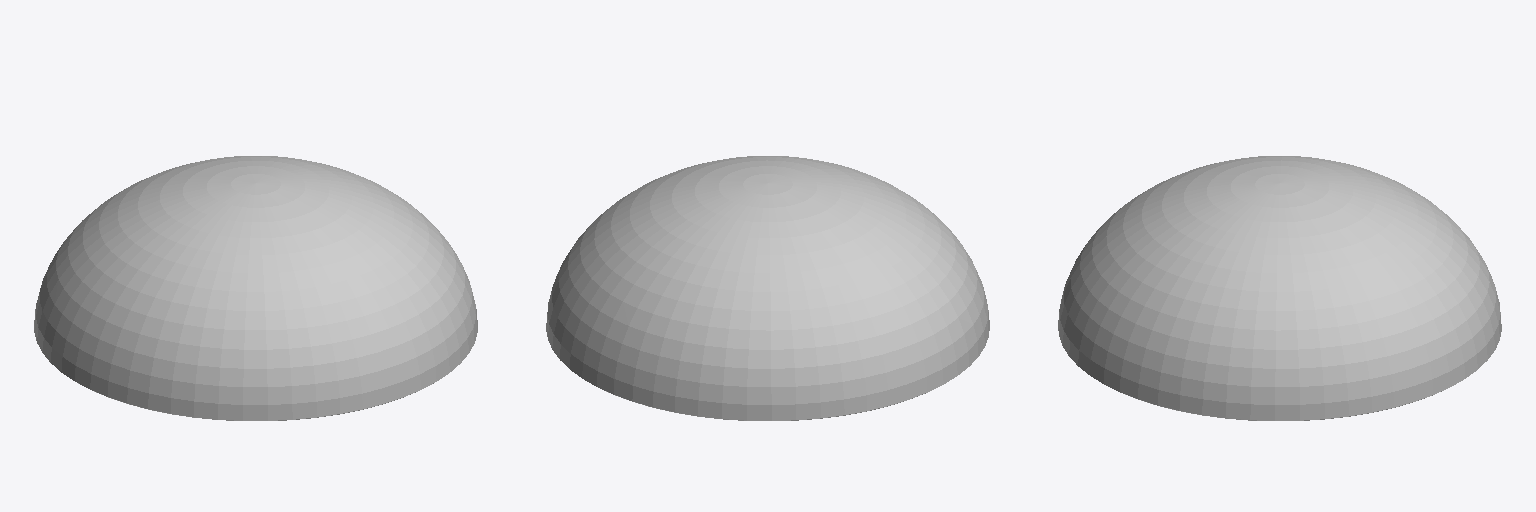
Rendered from light_2.obj.
3 views of the same model, side by side, from view 1: azimuth 30°, elevation 25°; view 2: azimuth 150°, elevation 25°; view 3: azimuth 270°, elevation 25° (orthographic).
Visible parts, largest first — view 1: light_2_Sphere002.003; view 2: light_2_Sphere002.003; view 3: light_2_Sphere002.003.
Part boxes in pixels (bbox=[...]): light_2_Sphere002.003: bbox=[34, 156, 477, 420]; light_2_Sphere002.003: bbox=[546, 156, 989, 420]; light_2_Sphere002.003: bbox=[1058, 156, 1501, 420].
Size of the model in its own units: 0.3803 by 0.1374 by 0.3803.